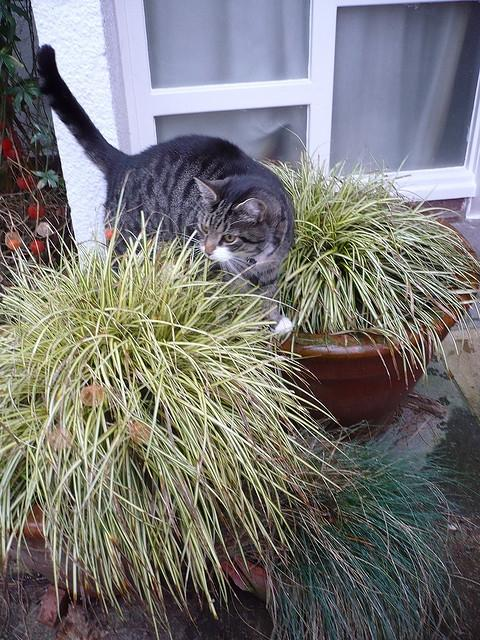tomato: (5, 230, 22, 248), (28, 206, 44, 220), (30, 240, 44, 255), (9, 149, 22, 162), (16, 178, 30, 190), (106, 228, 118, 241), (8, 240, 20, 251), (3, 138, 13, 151)
